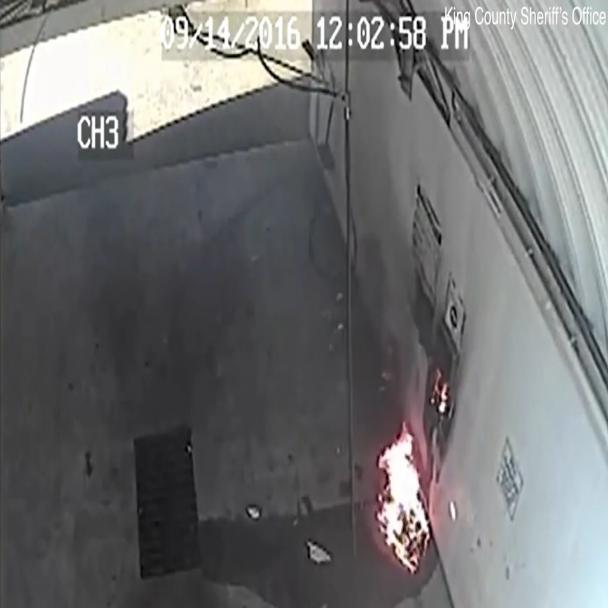Fire: (361, 384, 449, 607)
